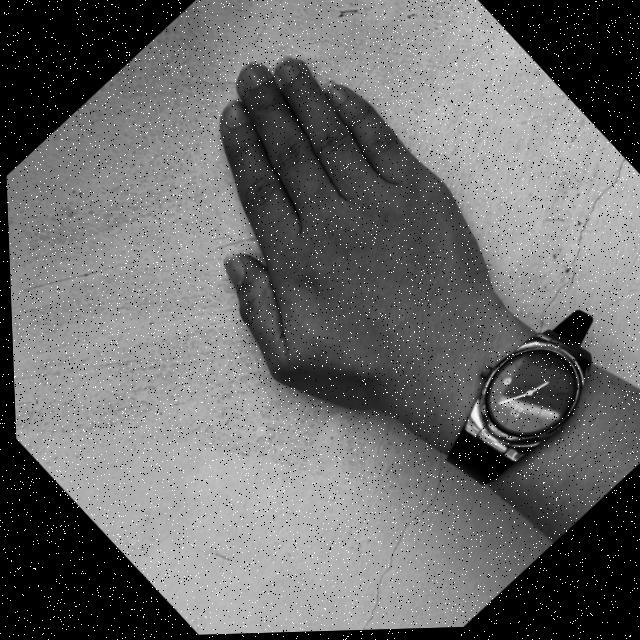hand: (92, 12, 518, 442)
